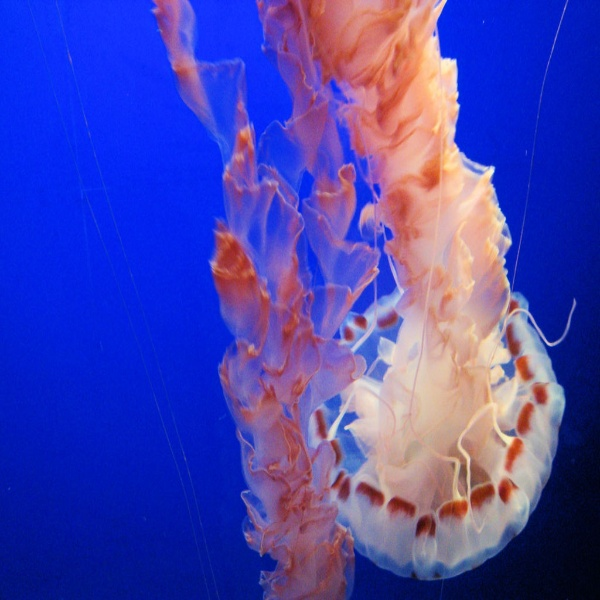Jellyfish: (148, 0, 578, 599)
